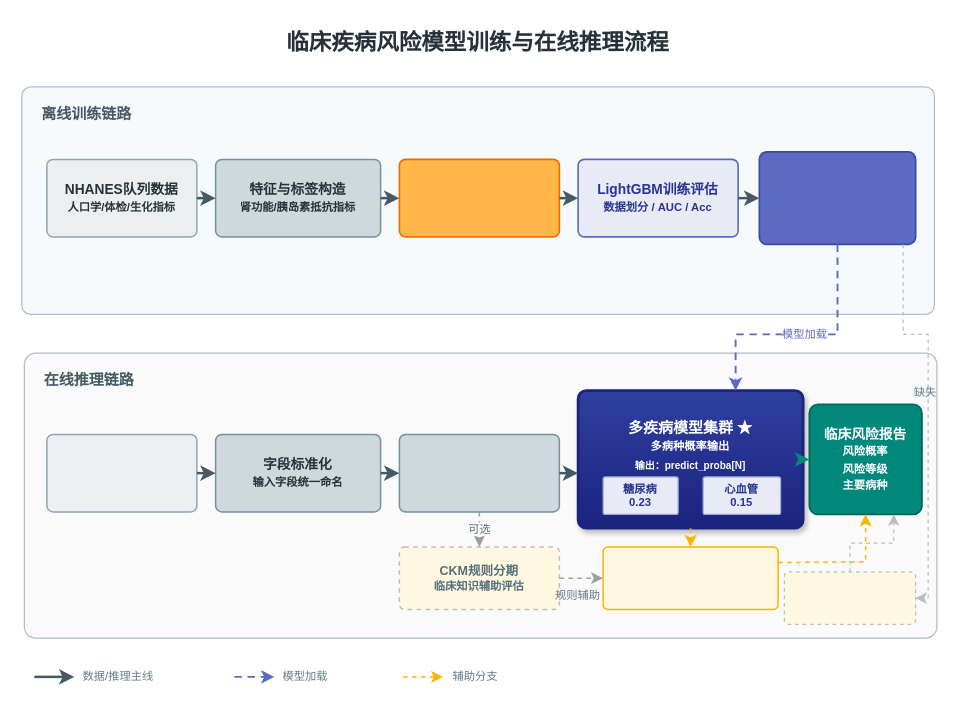
This 960x709 diagram has some shape labels left out. Here are the shapes that lost their labels. From the top down, the centre of each, then its label:
At point 479,197: "目标泄漏防护 时序泄漏剔除".
At point 837,197: "模型包持久化 模型集合 / 特征映射".
At point 121,472: "用户健康画像 体检表 / 档案字段".
At point 479,472: "特征对齐与补缺 缺失值统一填充".
At point 690,578: "风险因子解释 Top N 特征重要性".
At point 849,597: "模型不可用 返回错误状态".
